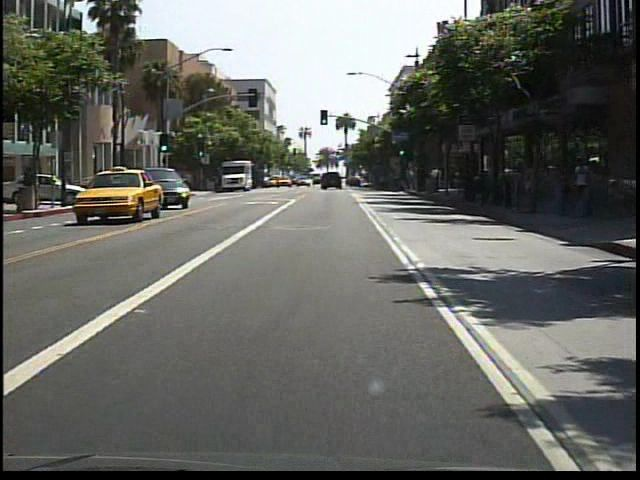person: (571, 154, 596, 192)
